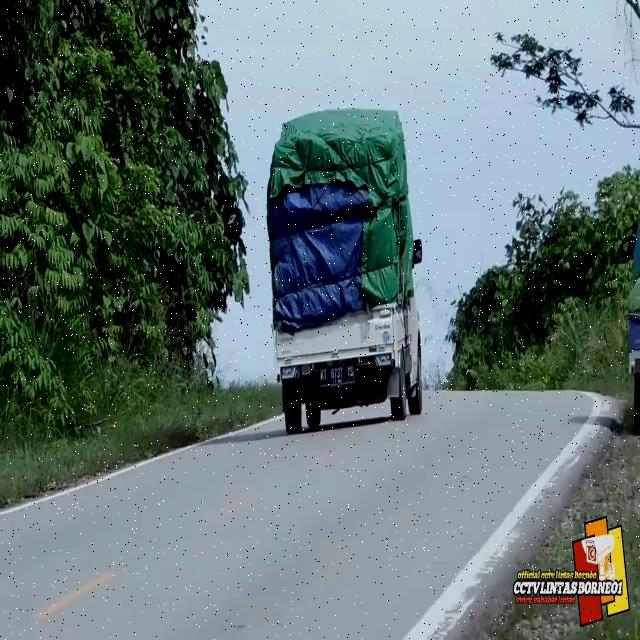Golongan IVB: (273, 237, 423, 434)
